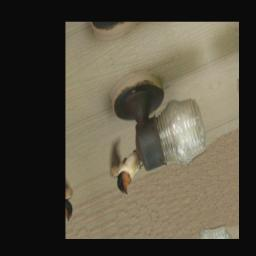Swallow: (102, 130, 149, 201)
